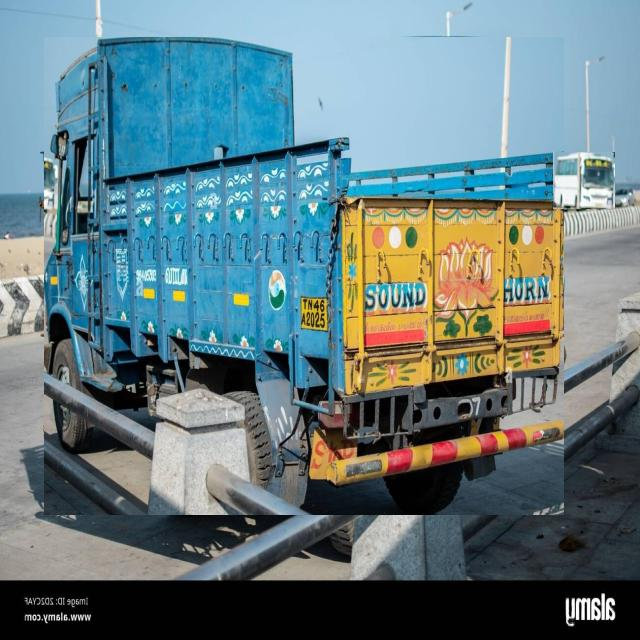bus: (553, 153, 614, 209)
truck: (44, 38, 564, 515)
